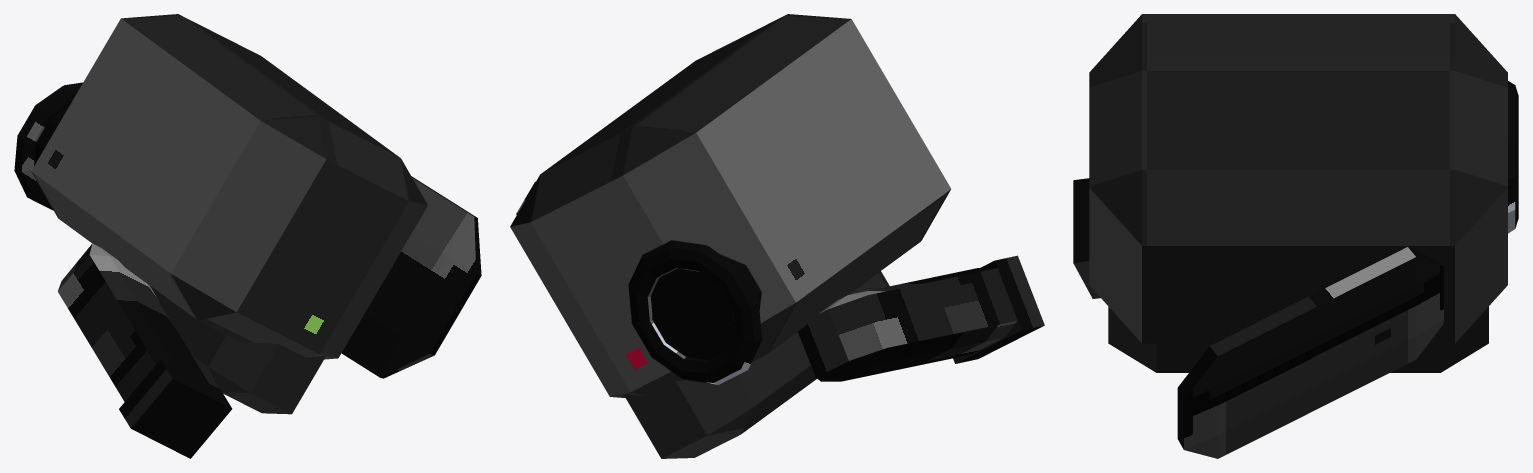
Rendered from Low_Poly_Video_Camera.glb.
3 renders of one model, left to right at view 1: azimuth 30°, elevation 25°; view 2: azimuth 150°, elevation 25°; view 3: azimuth 270°, elevation 25°, orthographic. The views are drawn at different scales.
Parts seen in each view (by area): view 1: unnamed (×7); view 2: unnamed (×6); view 3: unnamed (×5).
Part boxes in pixels (x1,y1,x2,y2): unnamed (×7): [14, 14, 481, 458]; unnamed (×6): [510, 14, 1044, 458]; unnamed (×5): [1073, 14, 1518, 458].
Bounding box in the file's own units: 1.71 × 1.3 × 1.46.
Materials: 7 (7 with a texture image).
